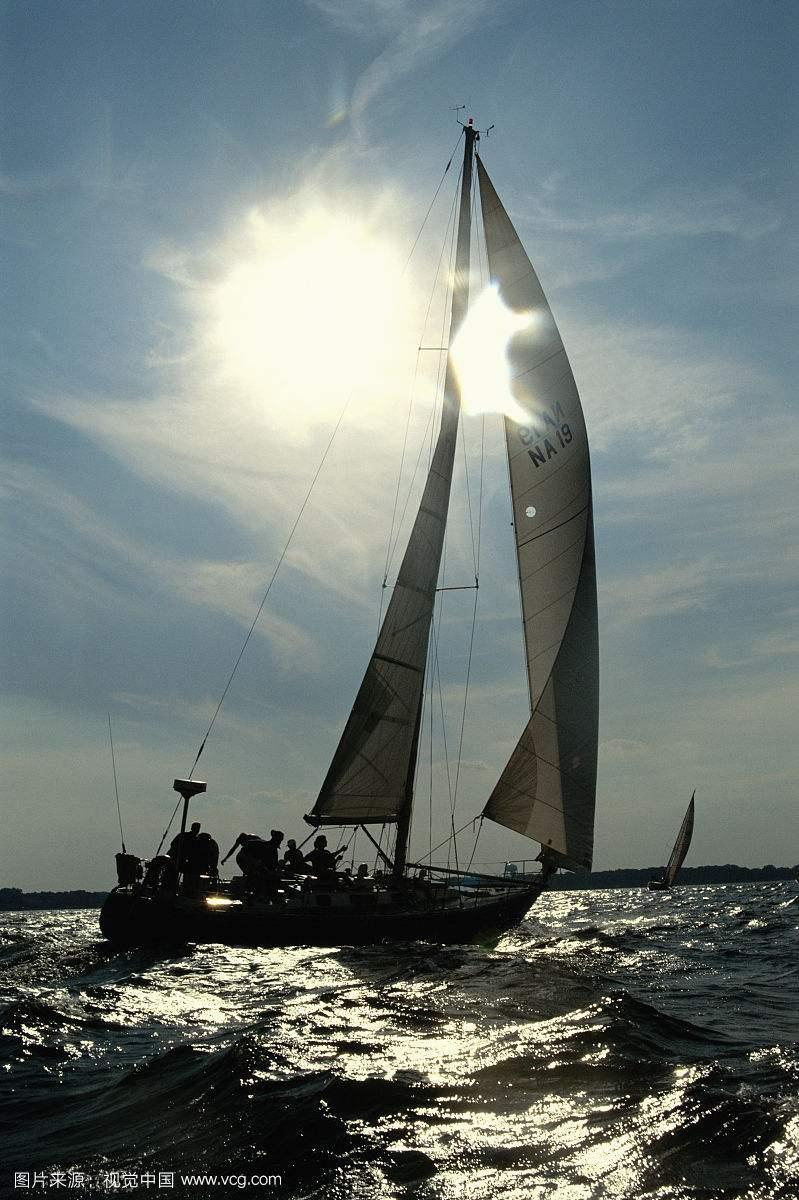fanchuan: (88, 109, 601, 948)
